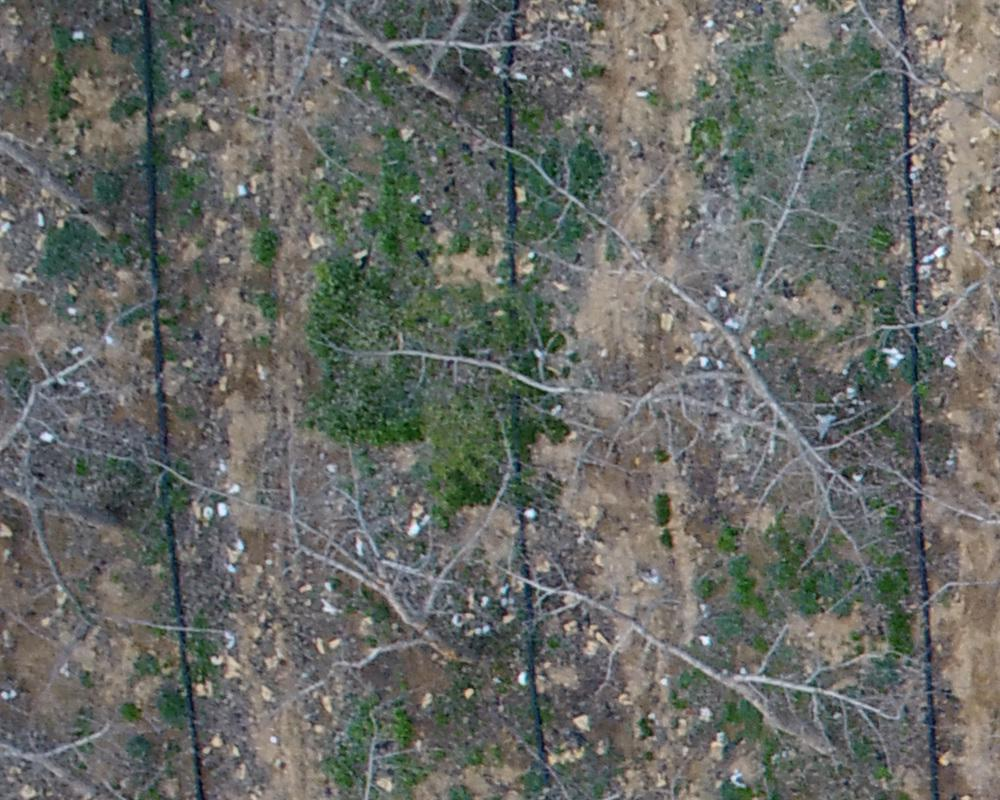apple: (317, 87, 940, 597), (144, 376, 527, 708), (498, 559, 931, 790)
